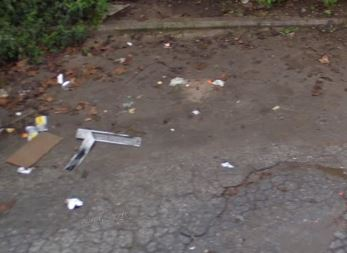trash: (60, 122, 169, 179), (10, 106, 53, 142), (164, 73, 227, 90), (10, 153, 41, 181), (59, 193, 91, 215), (51, 69, 76, 90), (219, 157, 234, 172)
